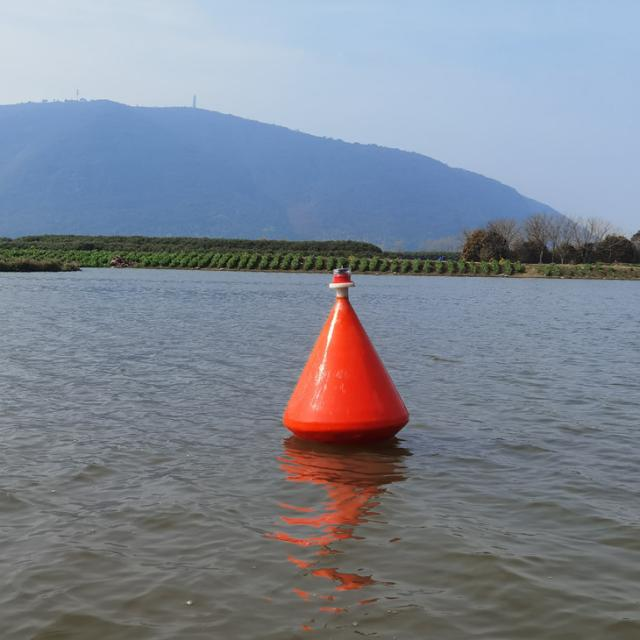buoy: (281, 268, 411, 443)
